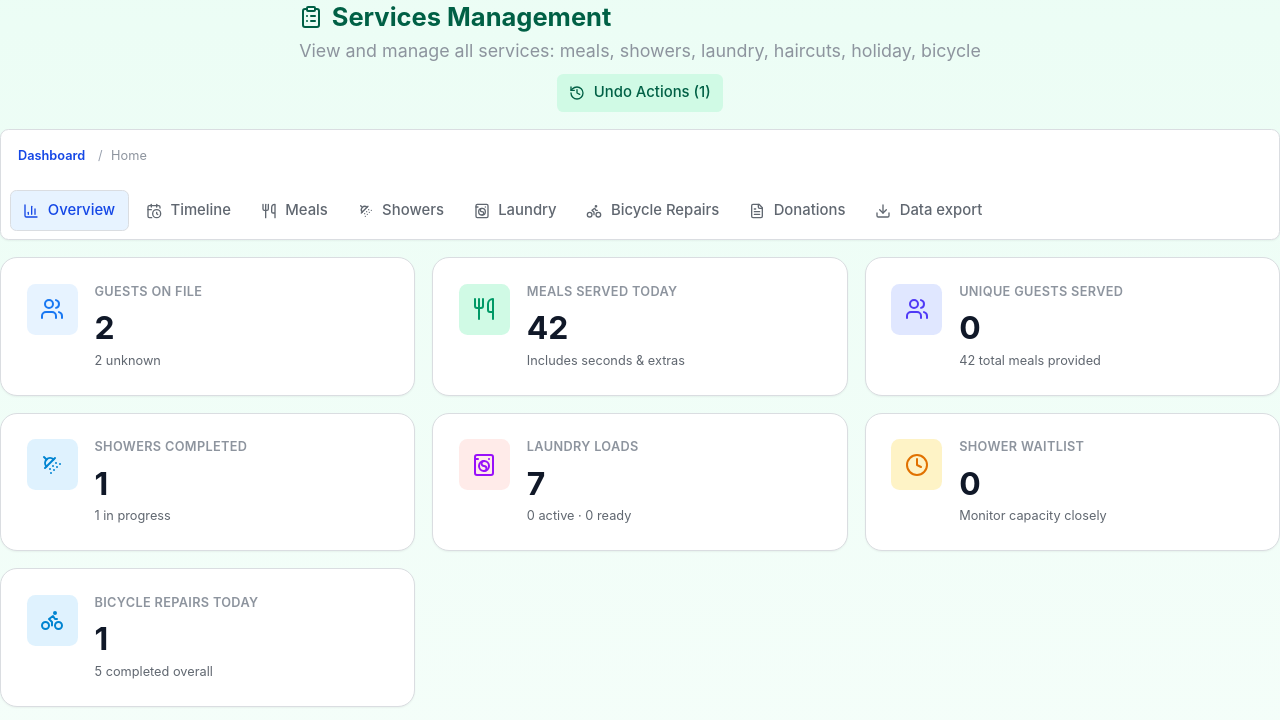
Scenario: Services page › displays proxy name when meal is picked up by another guest
The image size is (1280, 720).
# Navigate to Meals section to ensure list is visible
Click the button "Meals".
click(294, 211)  # box [248, 190, 341, 231]
(page scrolled)
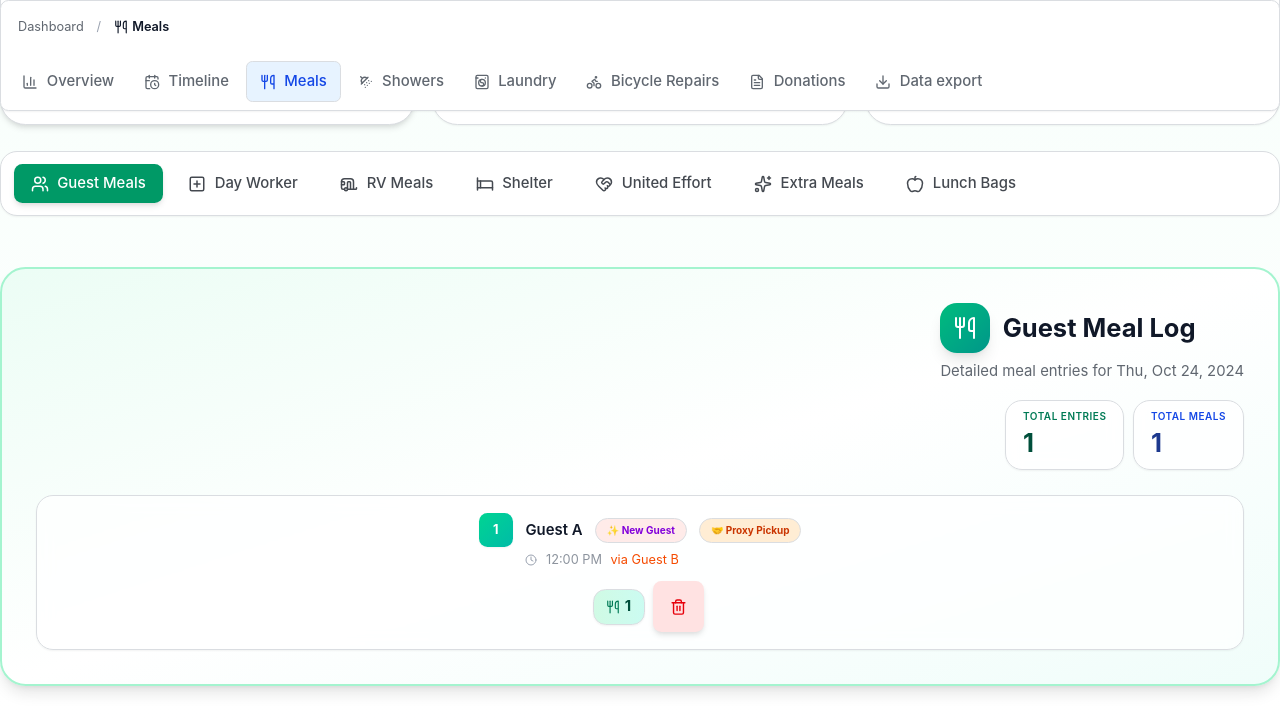
Expected: the text titled "Picked up by proxy: Guest B" is shown, [699, 518, 801, 543]
